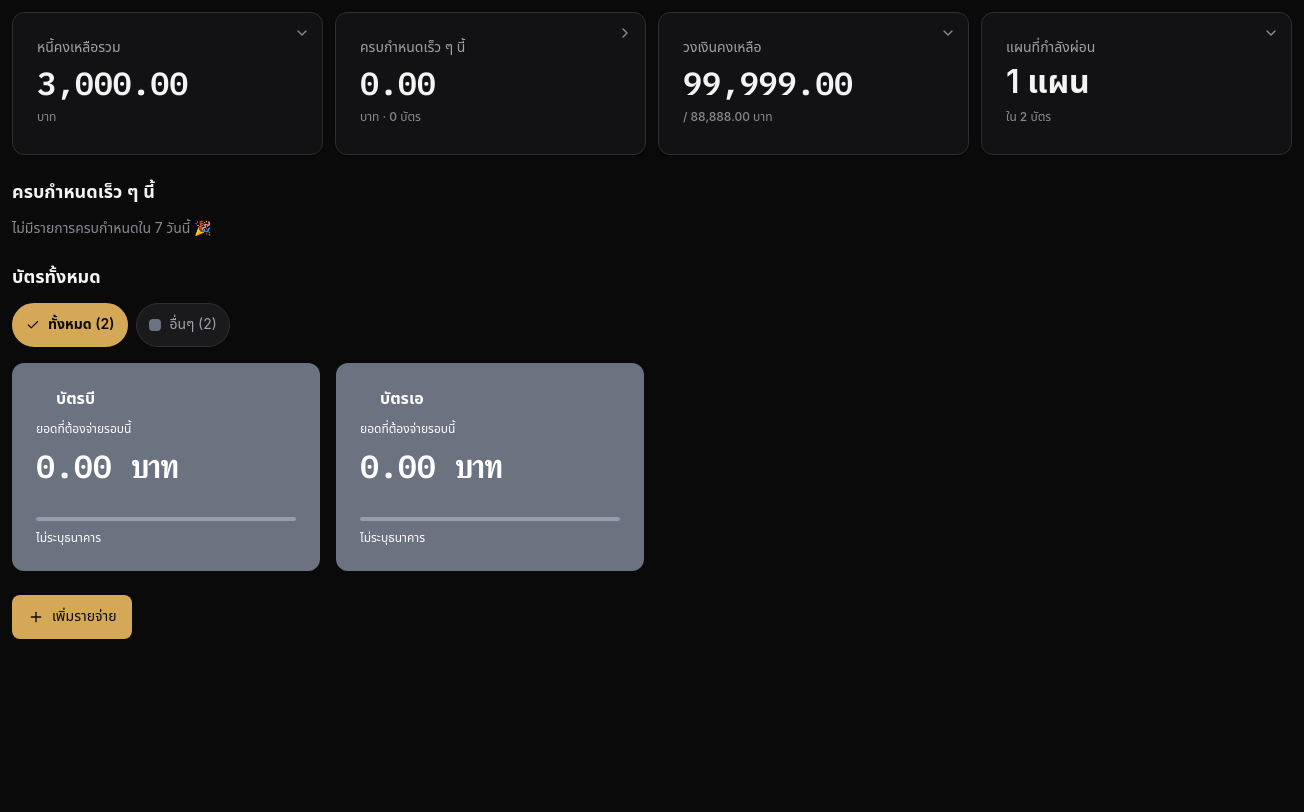
CreditCardDashboard KPI drill-down › credit and plans panels (phase 2) › opening a different panel replaces the current one
Click the button "หนี้คงเหลือรวม 3,000.00 บาท": click(168, 83) [12,12,323,155]
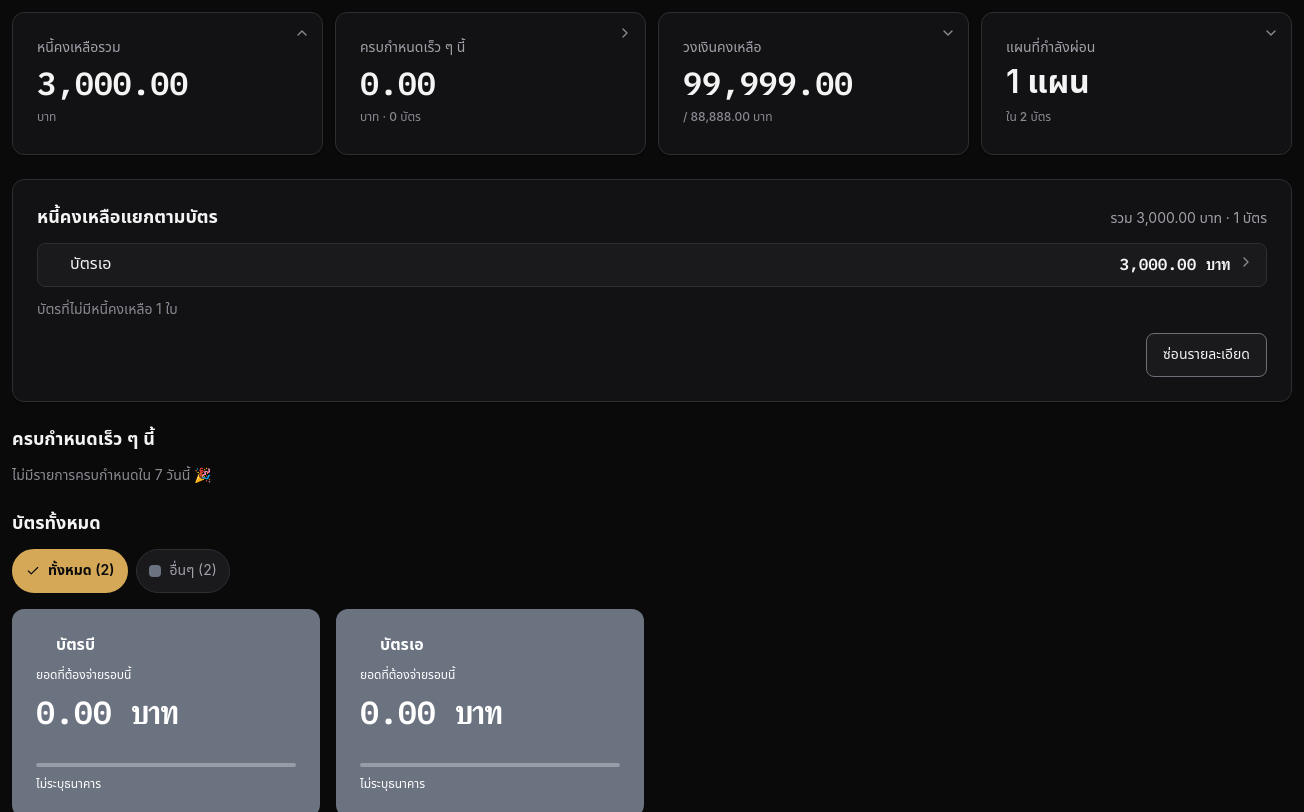
Expected: the element "หนี้คงเหลือแยกตามบัตร" is shown, [12,179,1292,402]
Click the button "วงเงินคงเหลือ 99,999.00 / 88,888.00 บาท": click(814, 83) [658,12,969,155]
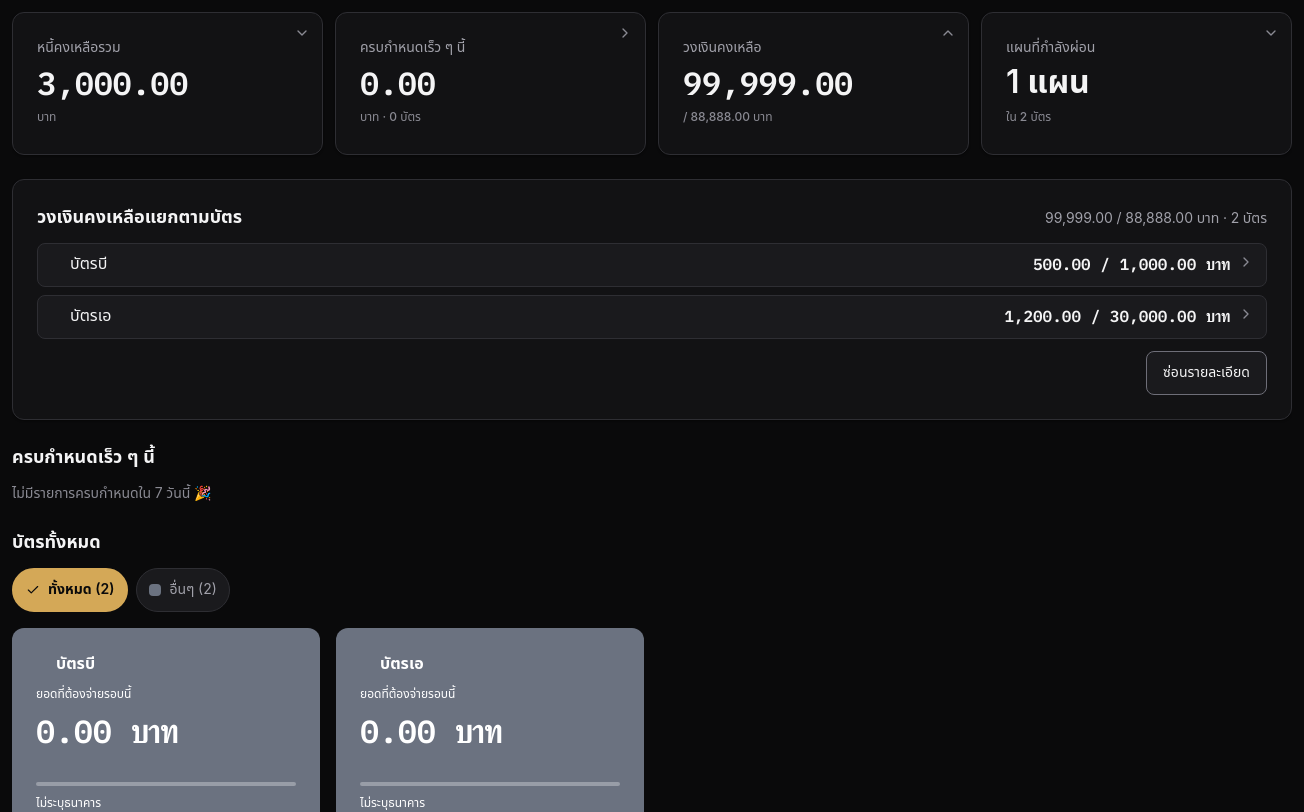
Expected: the heading "หนี้คงเหลือแยกตามบัตร" is gone
Expected: the element "วงเงินคงเหลือแยกตามบัตร" is shown, [12,179,1292,420]
Expected: the button "หนี้คงเหลือรวม 3,000.00 บาท" is collapsed, [12,12,323,155]
Click the button "แผนที่กำลังผ่อน 1 แผน ใน 2 บัตร": click(1051, 48) [981,12,1292,155]
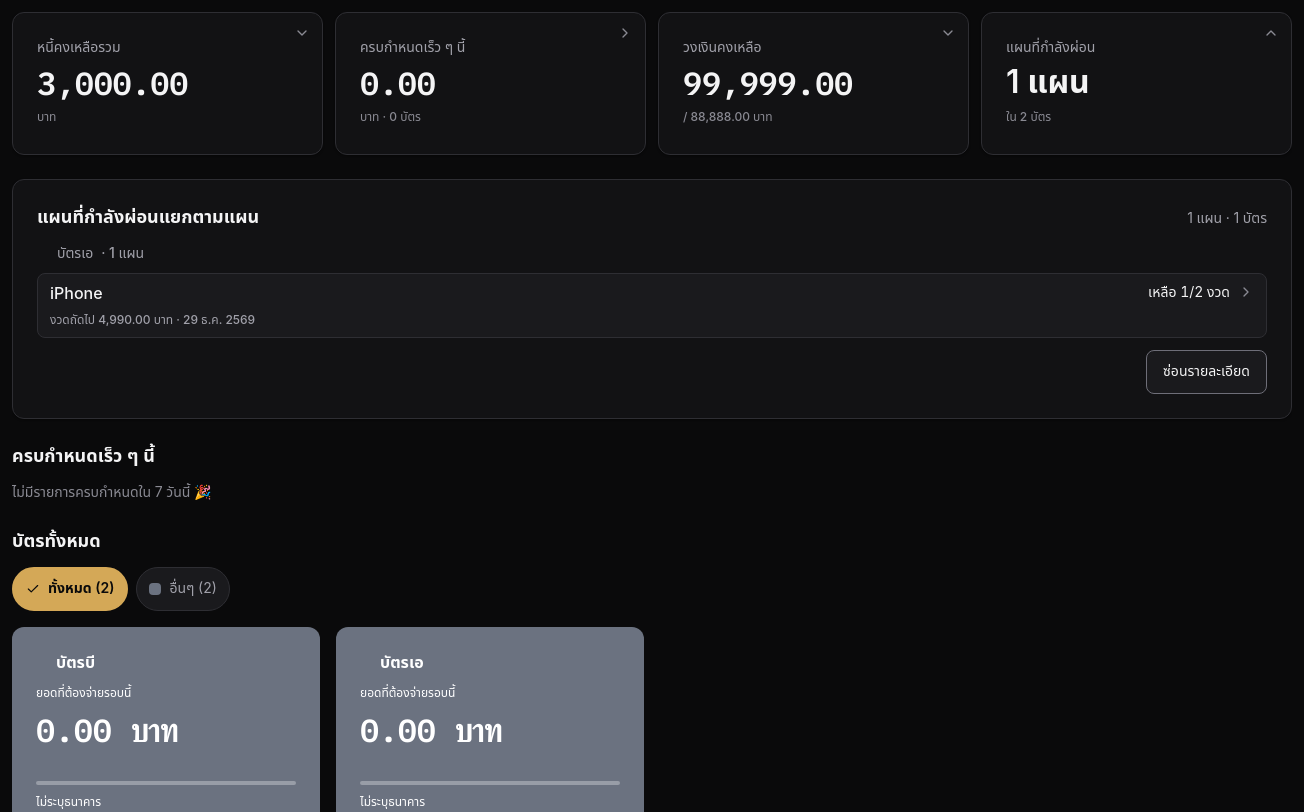
Expected: the heading "วงเงินคงเหลือแยกตามบัตร" is gone
Expected: the element "แผนที่กำลังผ่อนแยกตามแผน" is shown, [12,179,1292,419]
Expected: the button "วงเงินคงเหลือ 99,999.00 / 88,888.00 บาท" is collapsed, [658,12,969,155]
